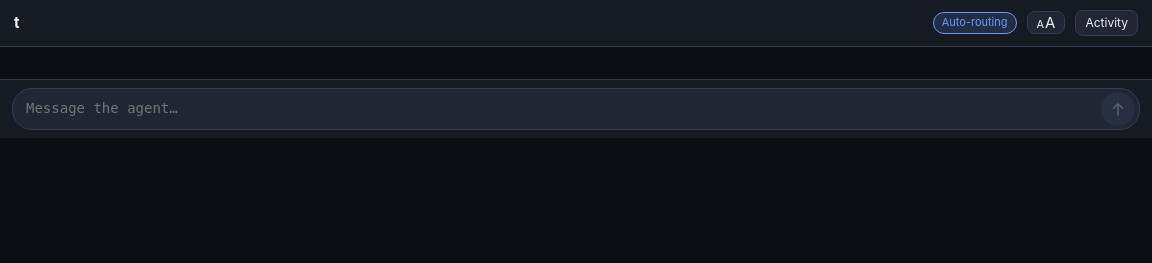
Test: Thread — optimistic send (11 §5) › renders the message immediately, posts it, and clears the composer
In the text box with placeholder "Message the agent…": (560,109) [26,92,1095,126], type "do the thing"
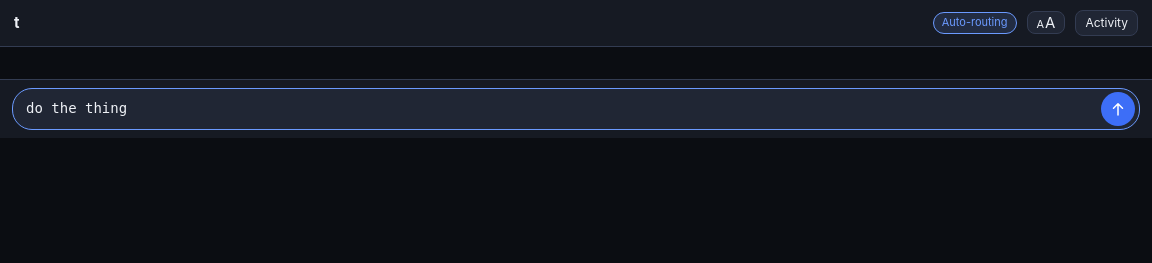
Click the button named "Send message": (1118,109) [1101,92,1135,126]
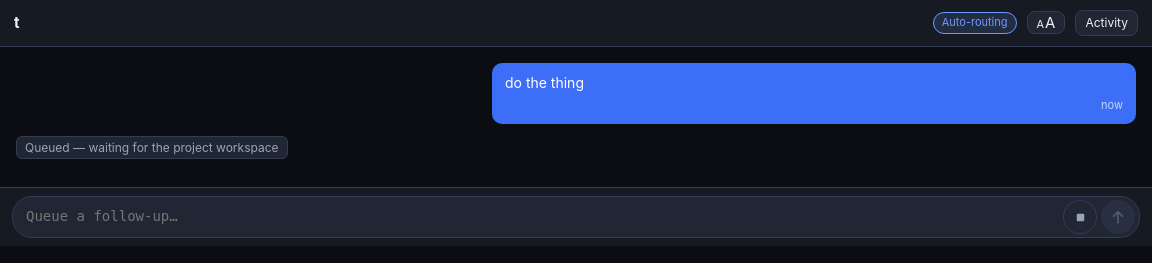
Expected: the text "do the thing" is shown, [505,74,584,91]
Expected: the text box with placeholder "Queue a follow-up…" is empty, [26,200,1057,234]
